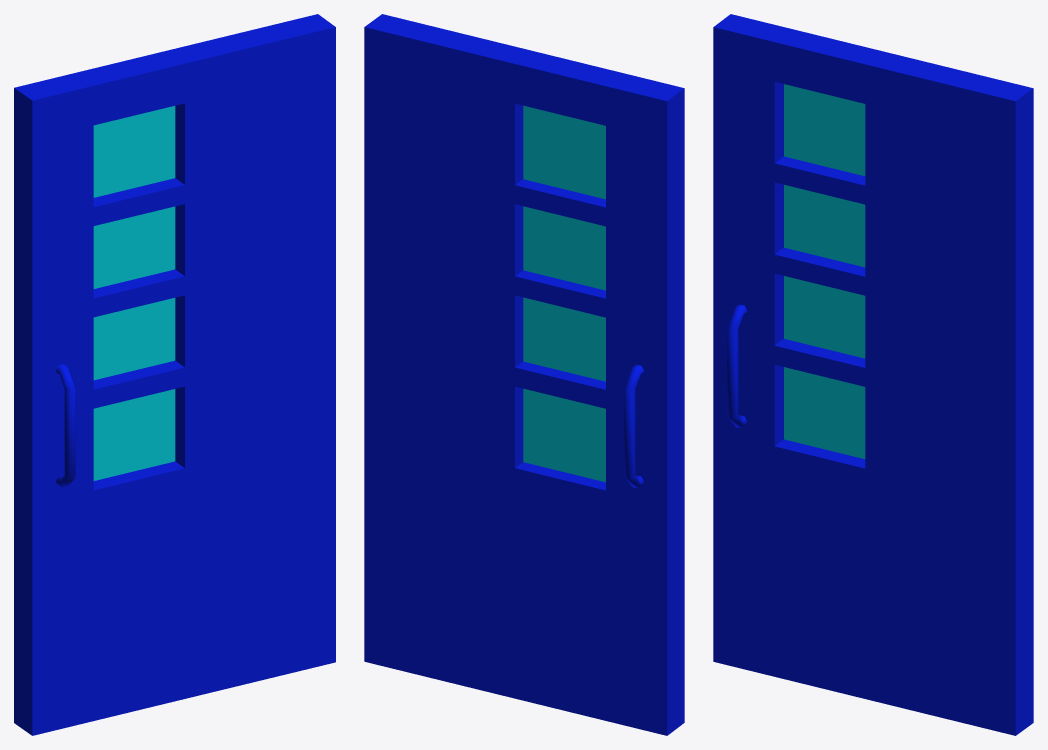
The model's file is Deur met 4 ramen.fbx.
3 renders of one model, left to right at view 1: azimuth 30°, elevation 25°; view 2: azimuth 150°, elevation 25°; view 3: azimuth 330°, elevation 25°, orthographic.
Visible parts, largest first — view 1: Deur(4 Raam), Deur(4 Raam)Ramen; view 2: Deur(4 Raam), Deur(4 Raam)Ramen; view 3: Deur(4 Raam), Deur(4 Raam)Ramen.
Part boxes in pixels (x1=…): Deur(4 Raam): x1=14, y1=14, x2=335, y2=735; Deur(4 Raam)Ramen: x1=93, y1=106, x2=175, y2=480; Deur(4 Raam): x1=364, y1=14, x2=684, y2=735; Deur(4 Raam)Ramen: x1=523, y1=105, x2=605, y2=482; Deur(4 Raam): x1=713, y1=14, x2=1033, y2=735; Deur(4 Raam)Ramen: x1=784, y1=84, x2=865, y2=458.
Bounding box in the file's own units: 99.93 × 200 × 23.63.
